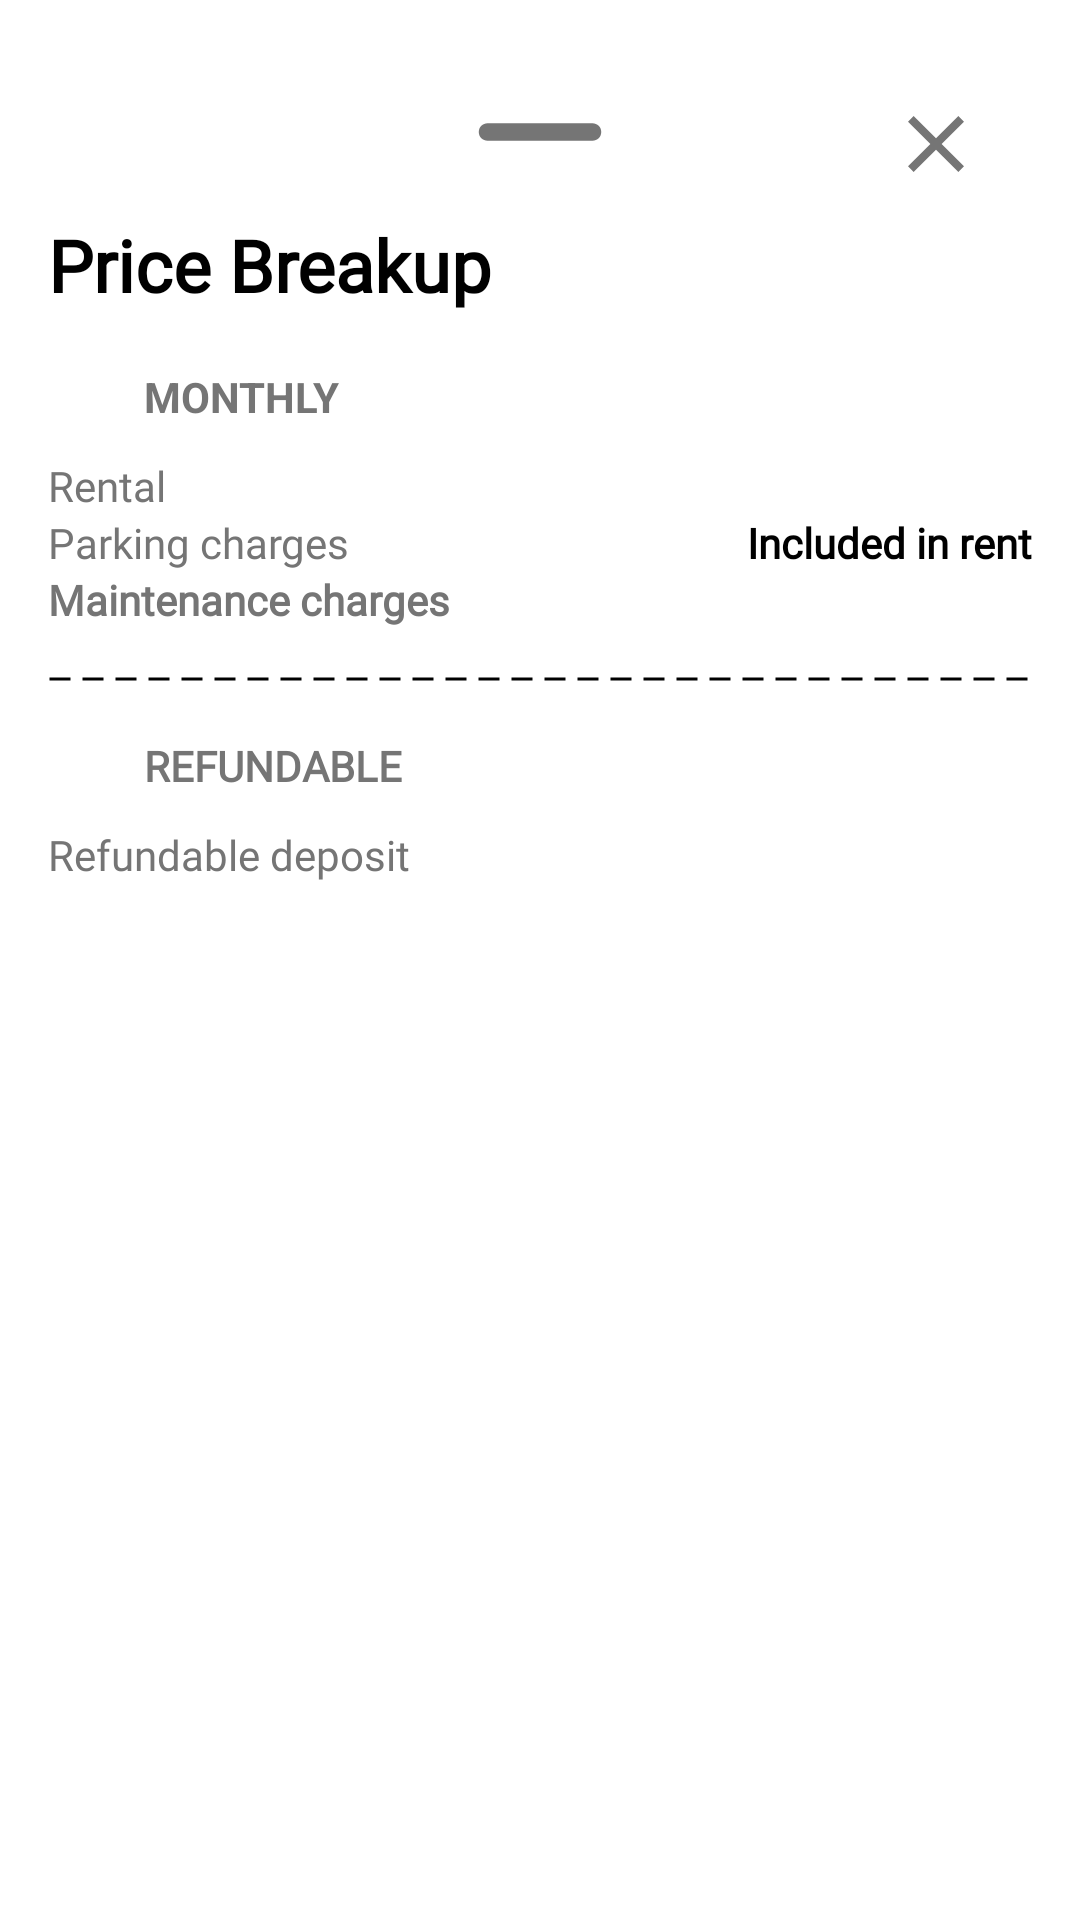

Locate icon controls on the screen. Image size 1080px×1920px, boxes as box(x1, y1, x2, y2).
clear: box(908, 116, 964, 172)
